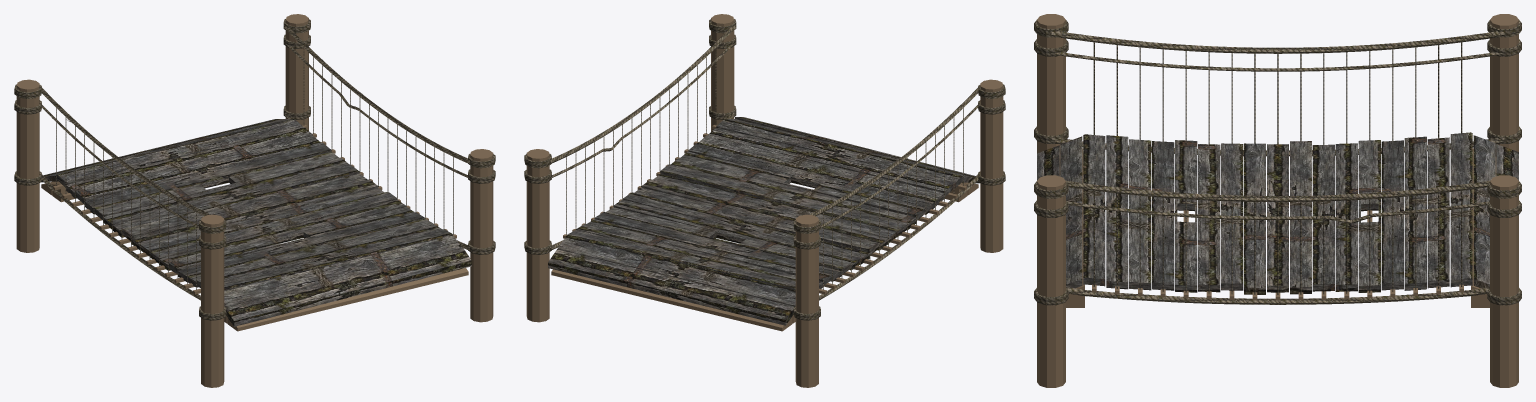
File: bridge-rope.glb
3 views of the same model, side by side, from view 1: azimuth 30°, elevation 25°; view 2: azimuth 150°, elevation 25°; view 3: azimuth 270°, elevation 25° (orthographic). The views are drawn at different scales.
Parts seen in each view (by area): view 1: plank00, plank01, post_-1_1, post_-1_-1, post_1_-1, plank18, plank16, plank15, plank17, plank14, plank13, plank11 (+25 smaller); view 2: plank20, plank19, post_-1_-1, post_-1_1, post_1_1, plank03, plank08, plank06, plank02, plank04, plank05, plank11 (+25 smaller); view 3: post_1_1, post_1_-1, plank16, plank04, plank15, plank18, plank05, plank03, plank13, plank07, plank08, plank12 (+26 smaller).
Part boxes in pixels (<box>): plank00: <box>226,247,471,326</box>; plank01: <box>224,235,461,307</box>; post_-1_1: <box>16,79,39,252</box>; post_-1_-1: <box>201,214,224,387</box>; post_1_-1: <box>470,149,493,322</box>; plank18: <box>57,119,302,187</box>; plank16: <box>75,136,320,203</box>; plank15: <box>85,142,331,214</box>; plank17: <box>66,127,312,198</box>; plank14: <box>94,152,339,219</box>; plank13: <box>103,158,349,229</box>; plank11: <box>122,174,367,240</box>; plank20: <box>548,249,794,325</box>; plank19: <box>557,235,795,306</box>; post_-1_-1: <box>980,79,1003,252</box>; post_-1_1: <box>795,214,818,387</box>; post_1_1: <box>526,149,549,322</box>; plank03: <box>707,128,953,196</box>; plank08: <box>660,164,906,236</box>; plank06: <box>680,151,925,220</box>; plank02: <box>716,119,962,188</box>; plank04: <box>698,135,944,206</box>; plank05: <box>688,143,934,214</box>; plank11: <box>634,187,878,254</box>; post_1_1: <box>1490,175,1518,387</box>; post_1_-1: <box>1037,175,1065,387</box>; plank16: <box>1404,136,1426,290</box>; plank04: <box>1129,139,1151,290</box>; plank15: <box>1381,140,1403,290</box>; plank18: <box>1450,132,1472,287</box>; plank05: <box>1152,141,1174,290</box>; plank03: <box>1106,135,1128,289</box>; plank13: <box>1335,143,1357,291</box>; plank07: <box>1198,144,1220,292</box>; plank08: <box>1221,143,1243,290</box>; plank12: <box>1312,144,1334,291</box>.
Bounding box in the file's own units: 4.3 × 2.3 × 5.06.
3 materials, 2 textured.
